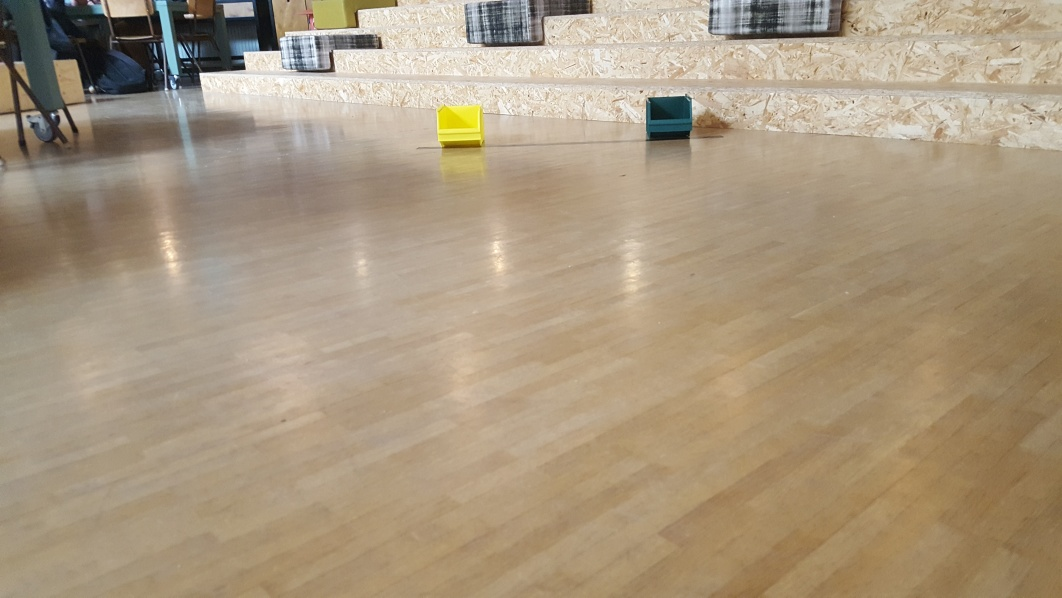tray: (435, 101, 484, 152), (643, 94, 694, 139)
